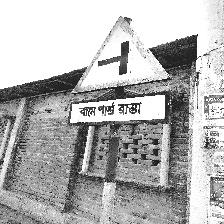Side-road-left: (69, 16, 173, 126)
